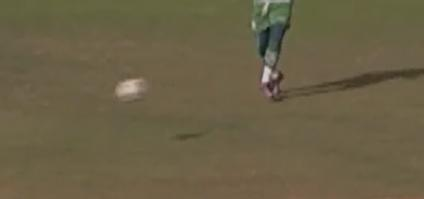ball: (113, 69, 148, 106)
